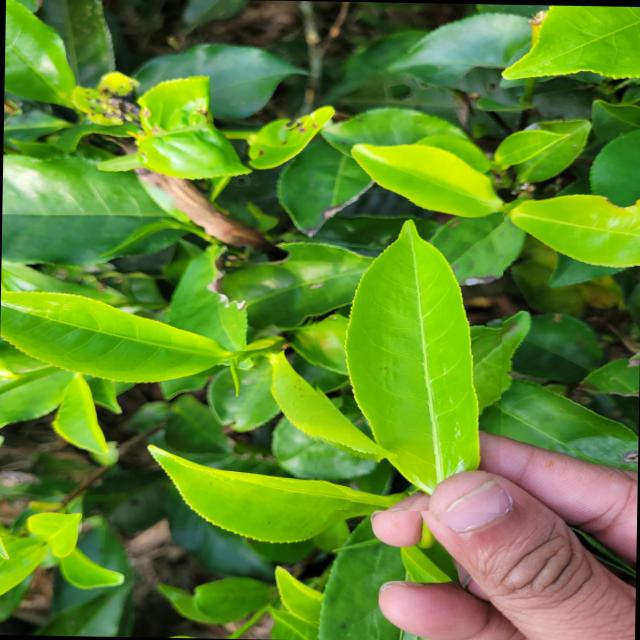Category B(2-4 days): (308, 196, 504, 511)
